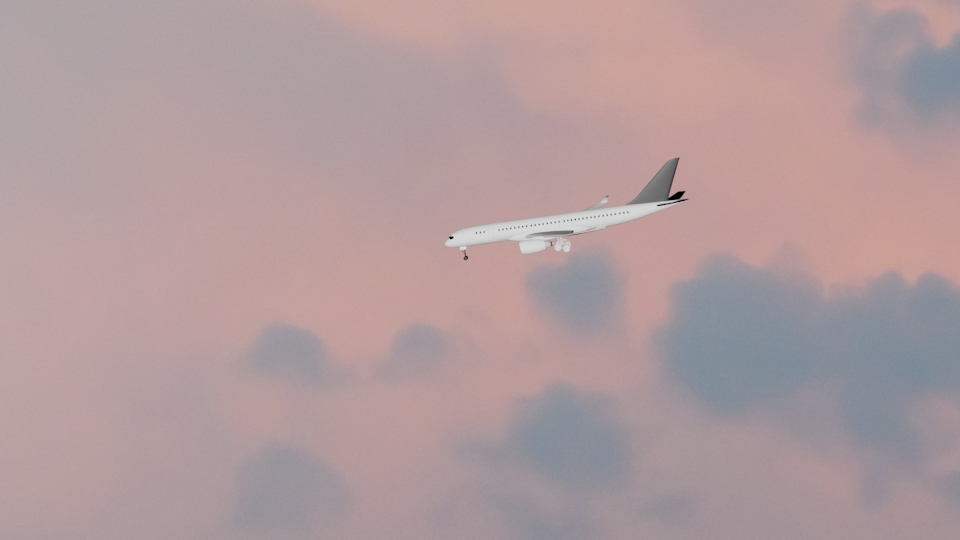plane: (445, 154, 689, 262)
